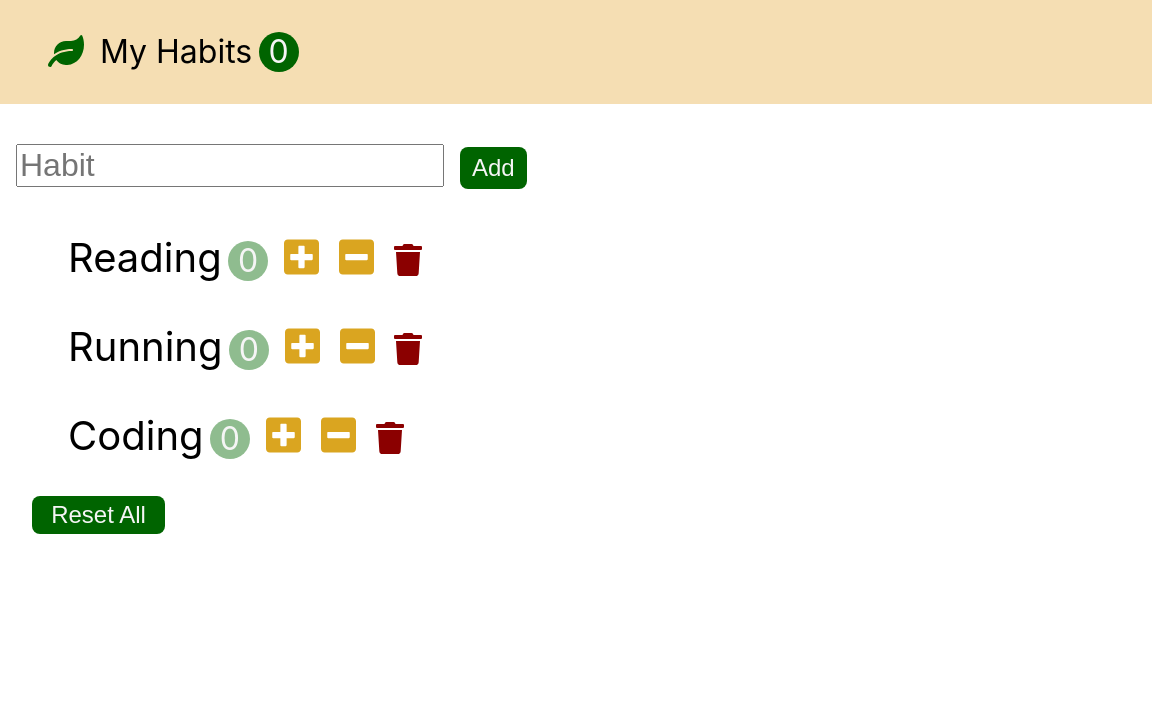
Habit Track › reset to 0 when clicking reset all button
Click the button titled "increase" in the row of "Reading". click: (303, 259)
box: left=279, top=235, right=326, bottom=282
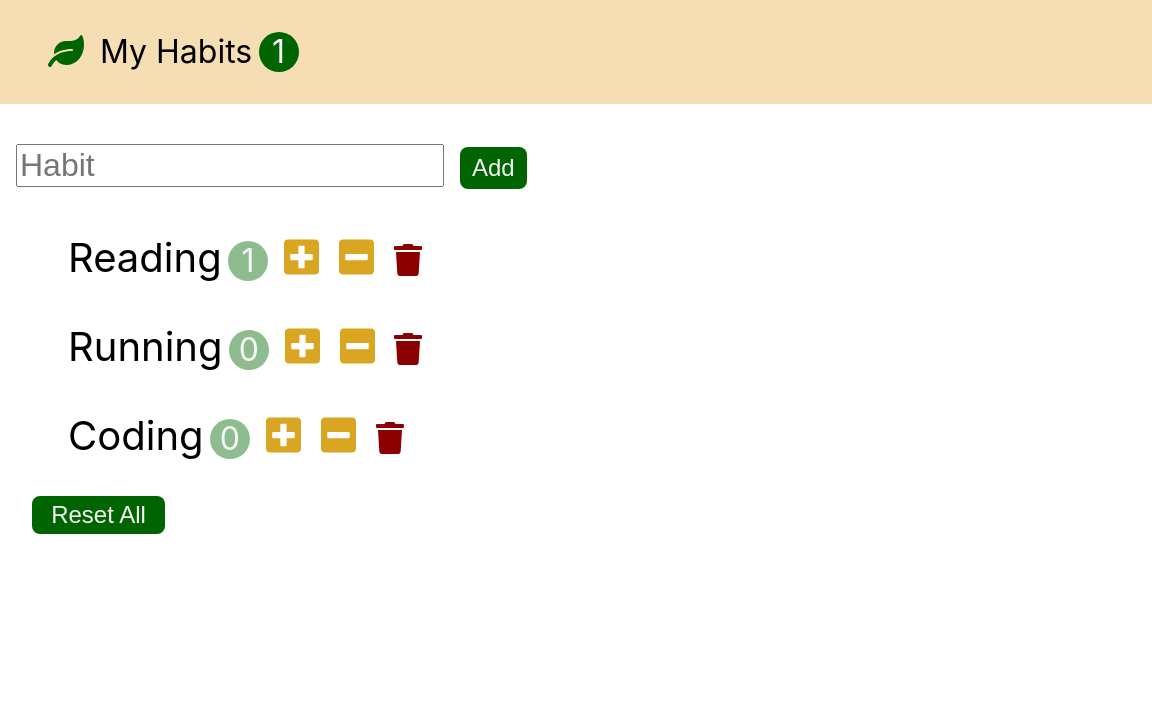
Click the button titled "increase" in the row of "Coding". click: (284, 437)
box: left=260, top=413, right=307, bottom=460
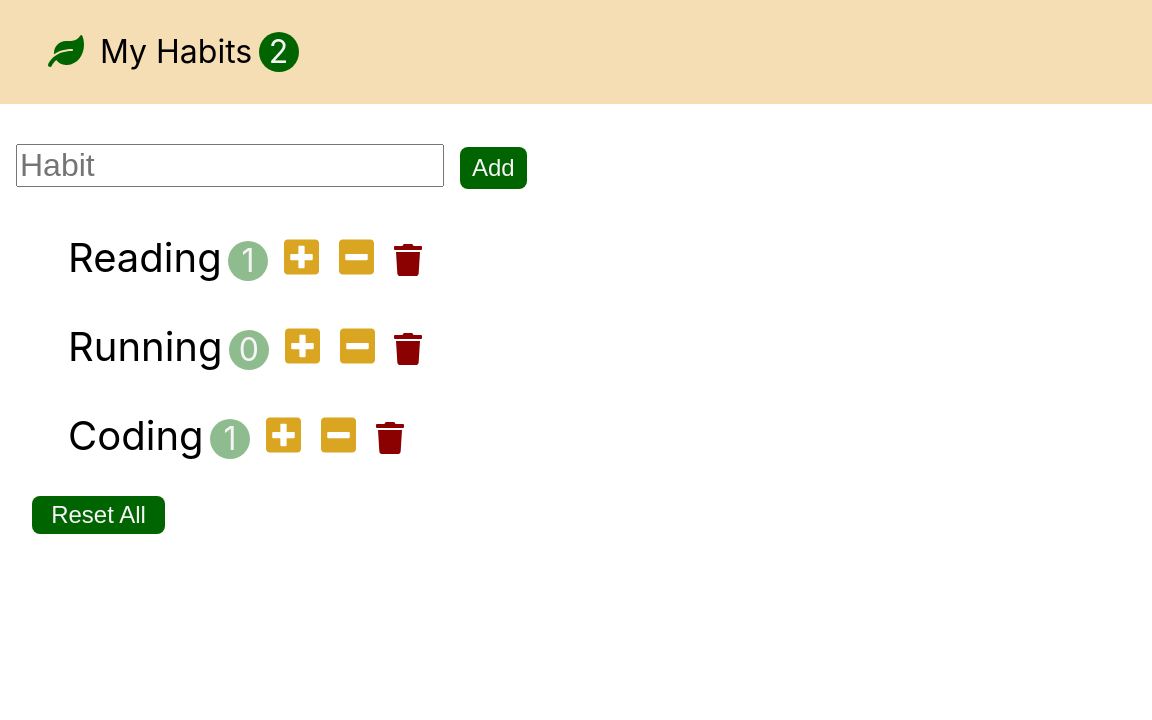
Click the button "Reset All". click: (99, 515)
box: left=32, top=496, right=165, bottom=534
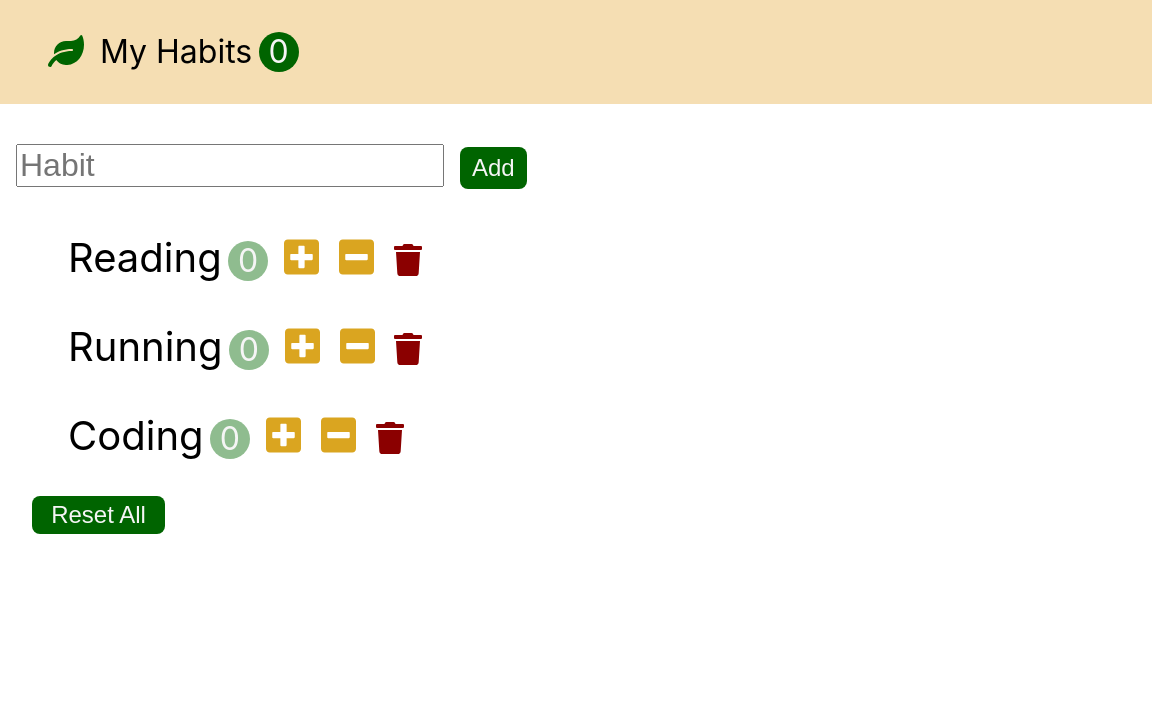
Now the text with test id "total-count" reads "0", box left=259, top=32, right=299, bottom=72
Now the text with test id "habit-count" next to "Reading" reads "0", box left=228, top=241, right=268, bottom=281
Now the text with test id "habit-count" next to "Coding" reads "0", box left=210, top=419, right=250, bottom=459
